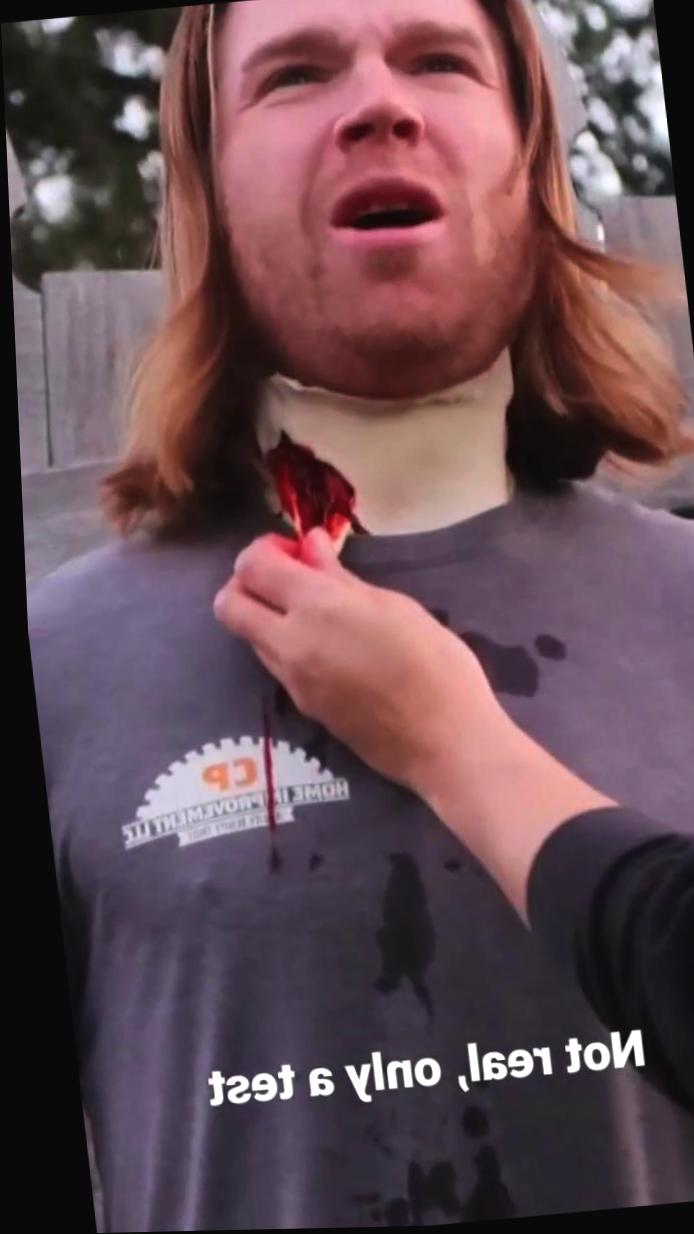Fire: (262, 432, 354, 553), (255, 693, 274, 874)
